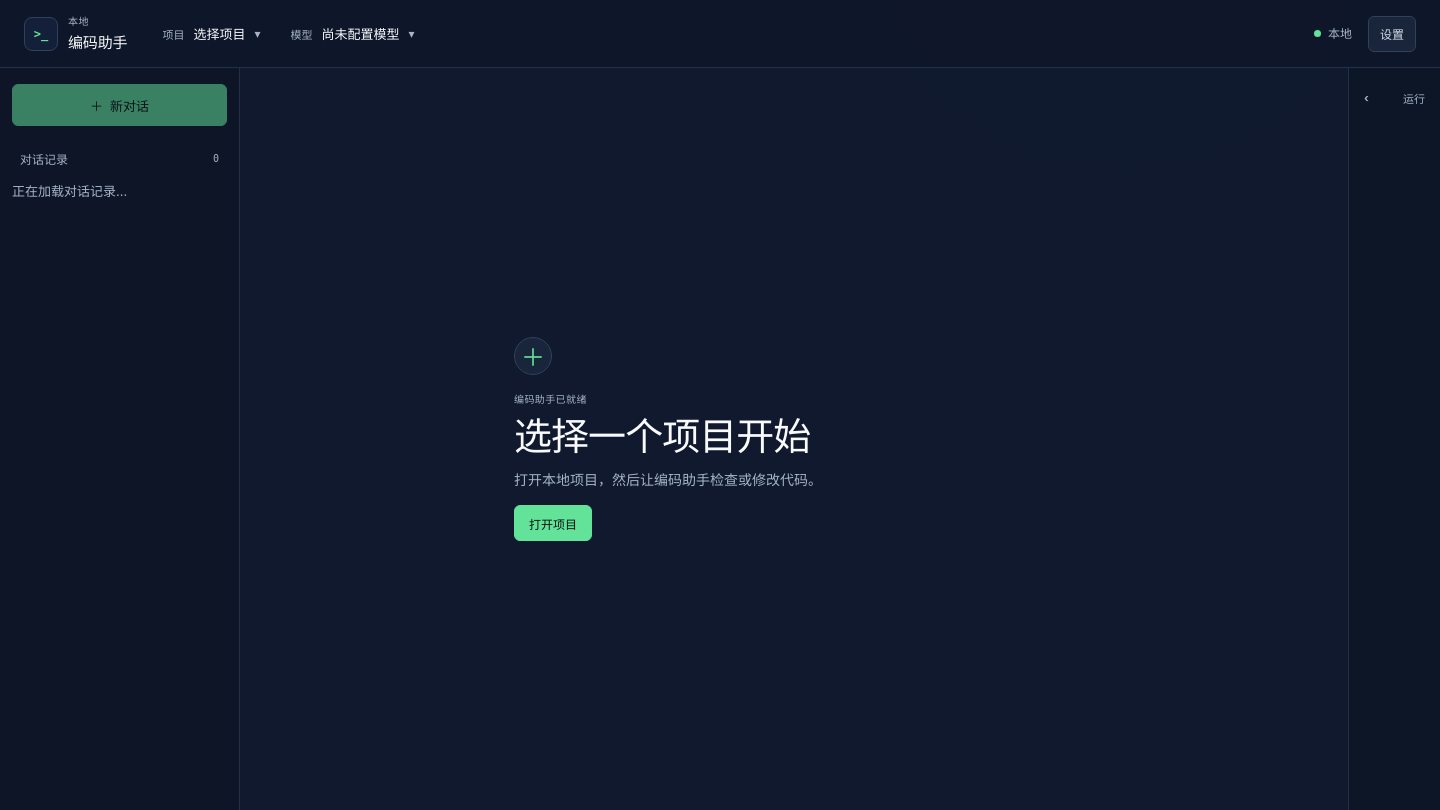
navigates Host workspaces and selects the current directory
The image size is (1440, 810).
Expected: the heading "选择一个项目开始" is shown, [514,416,810,458]
Click the button "项目 选择项目 ▾": (211, 34) [151,12,271,54]
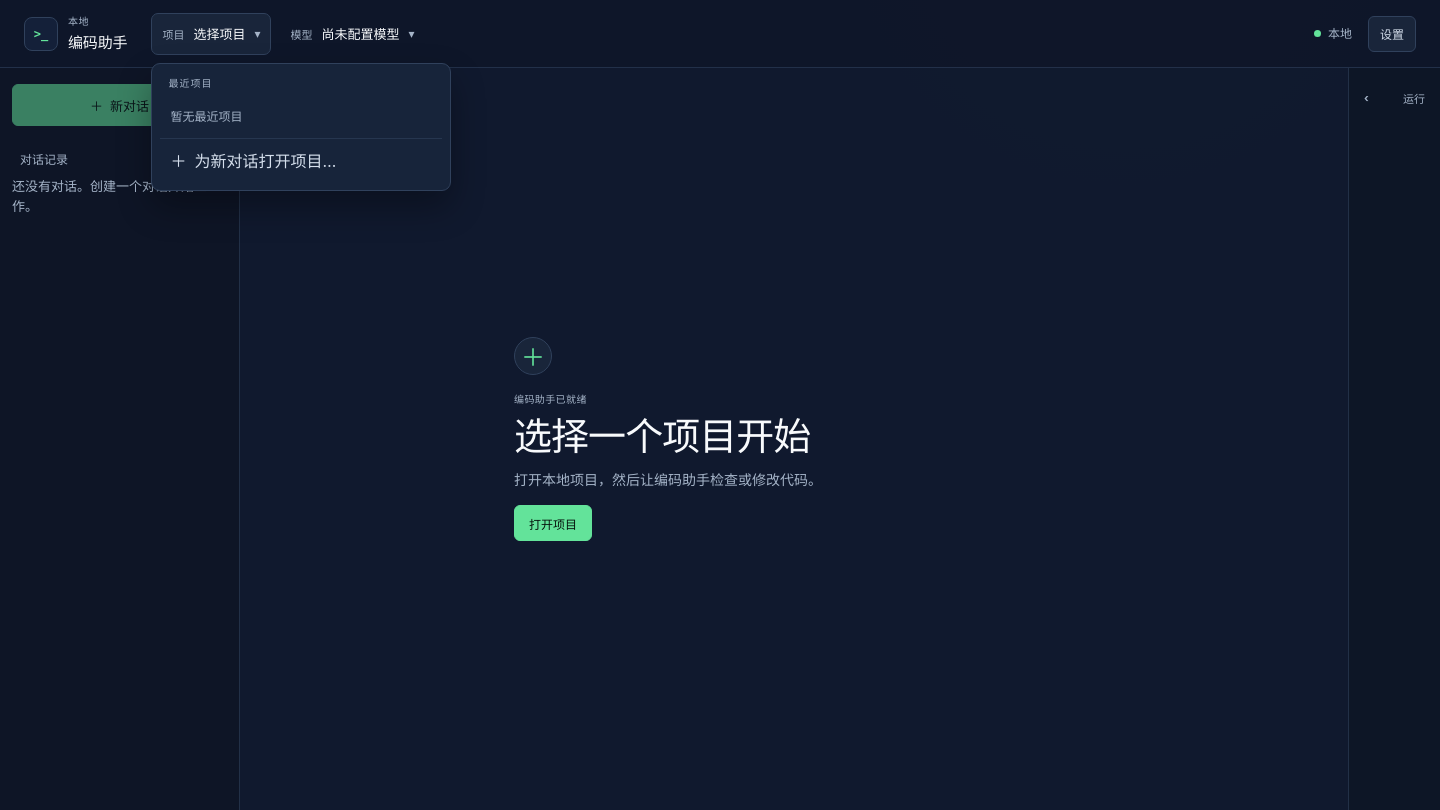
Click the menu item "＋ 为新对话打开项目…": (301, 160) [160,138,442,182]
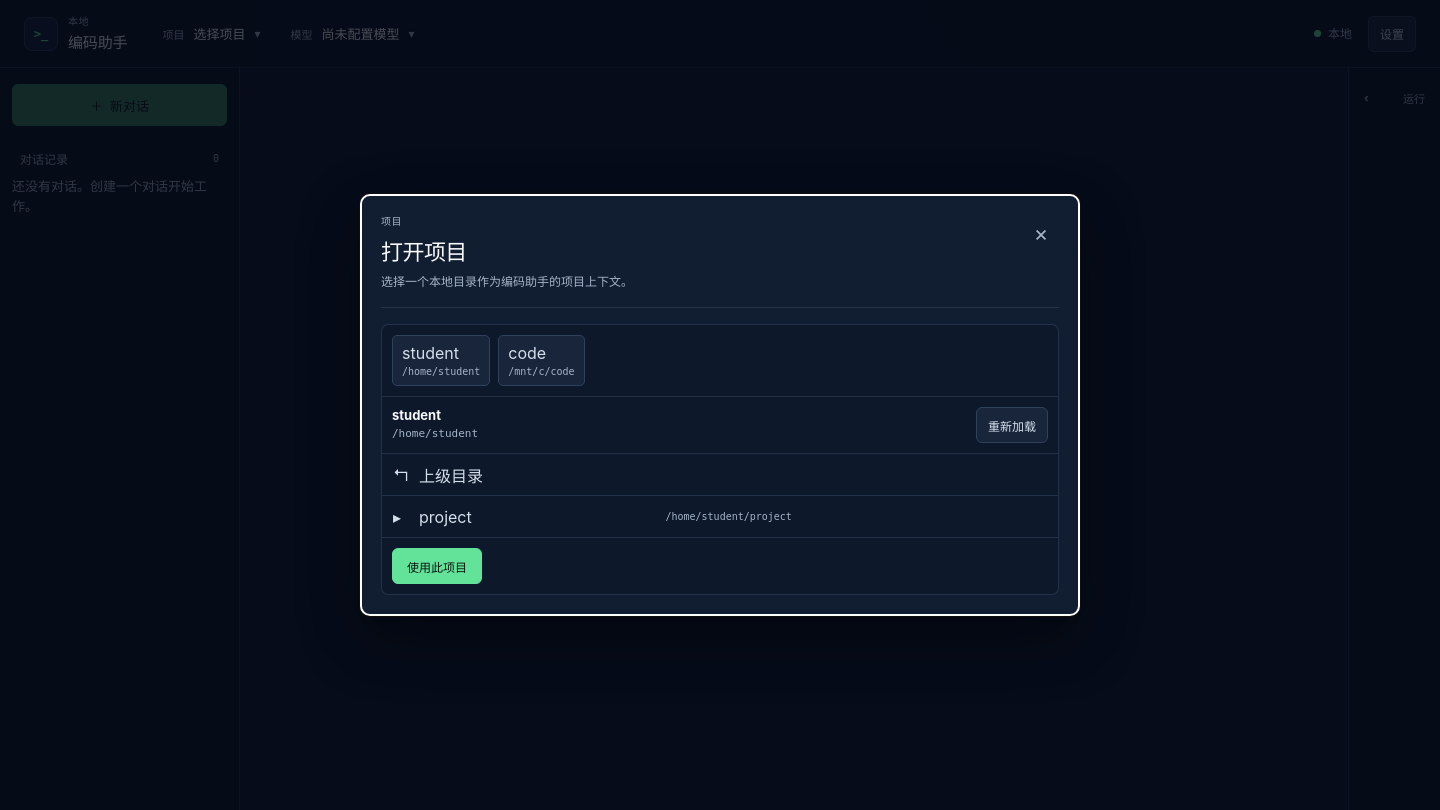
Expected: the heading "打开项目" is shown, [381,239,467,265]
Click the button with aria-label "打开 project": (720, 517) [382,496,1058,538]
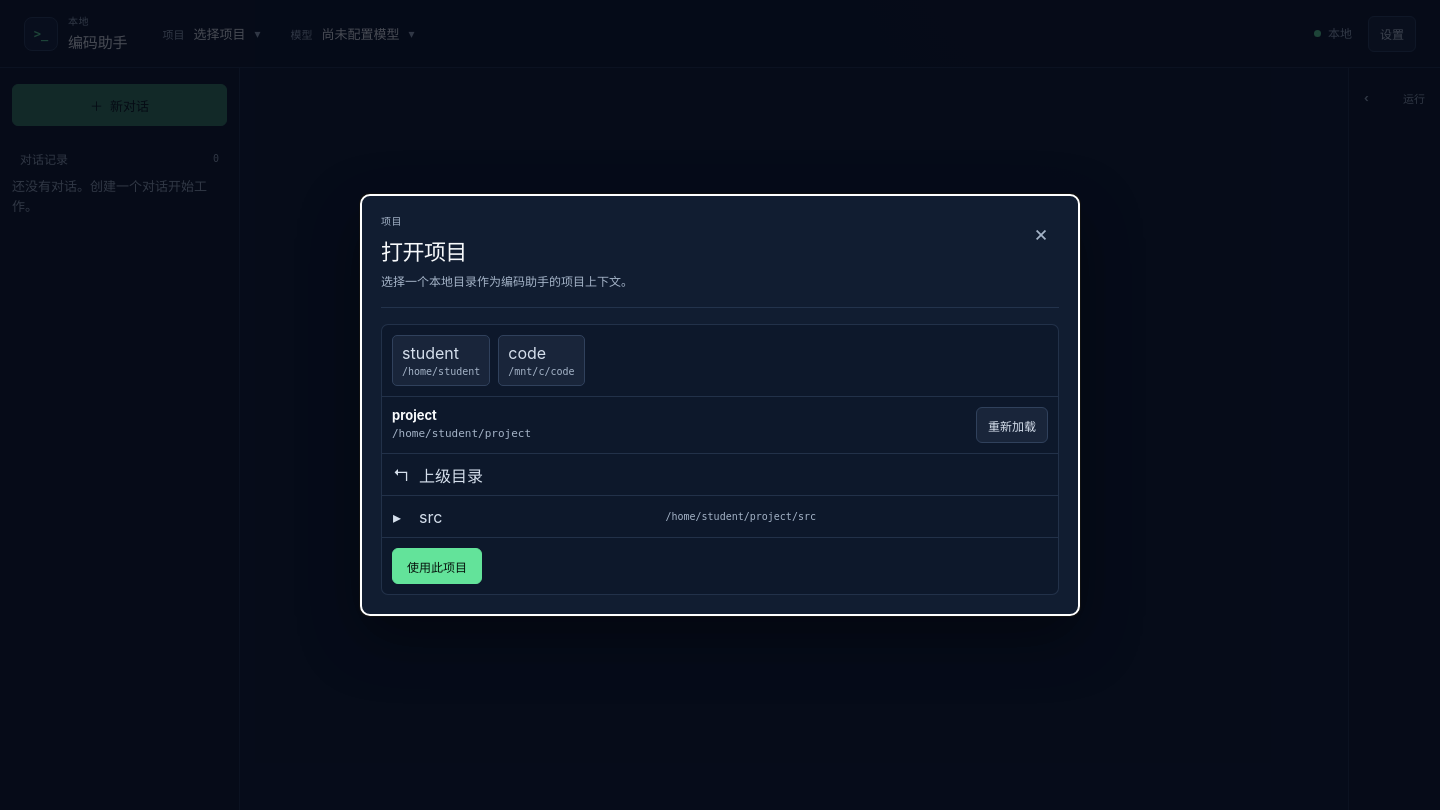
Expected: the text "/home/student/project" is shown, [392,426,531,442]
Click the button "使用此项目": (437, 566) [392,548,482,584]
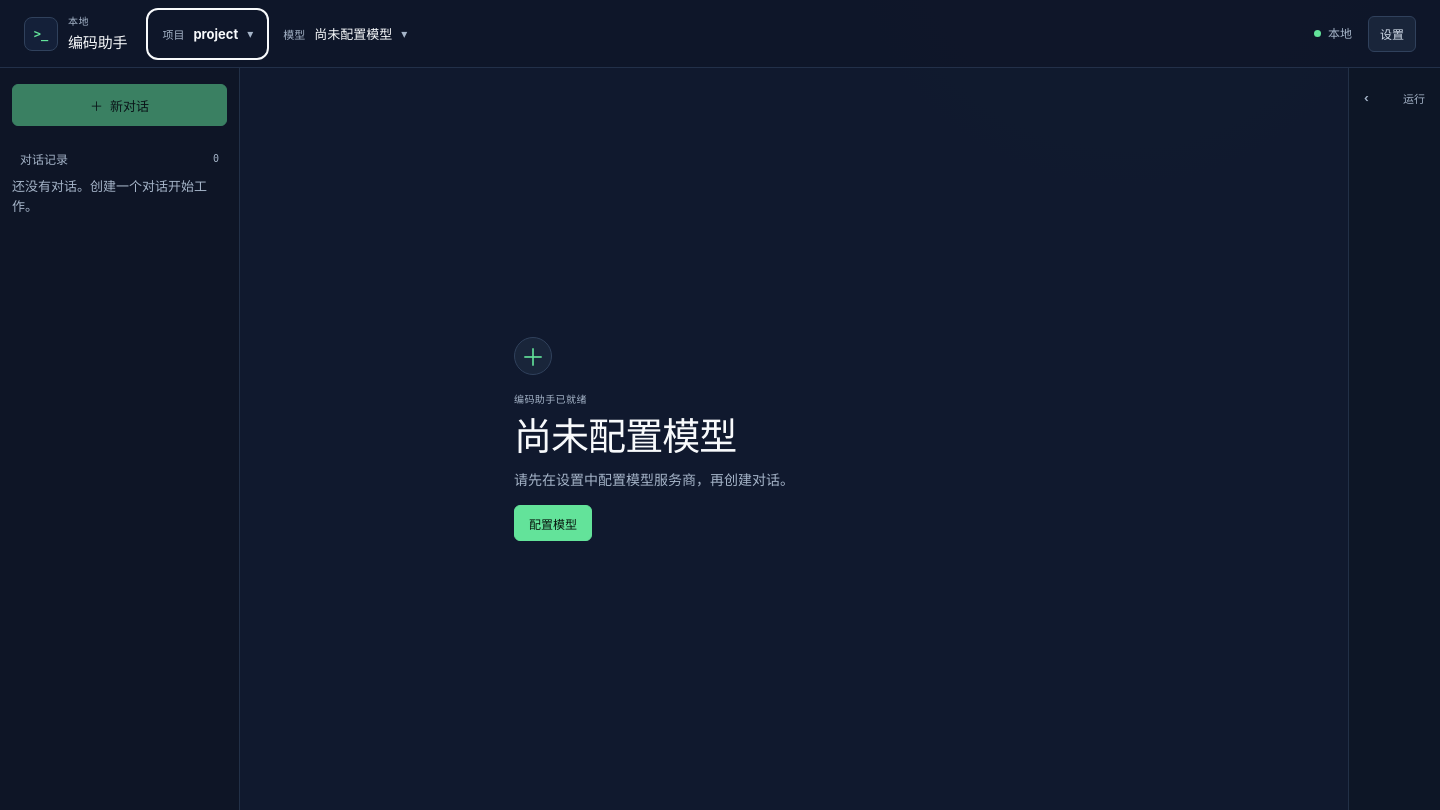
Expected: the button with aria-label "当前项目：project" is shown, [151,12,264,54]
Expected: the text "/home/student/project" is gone
